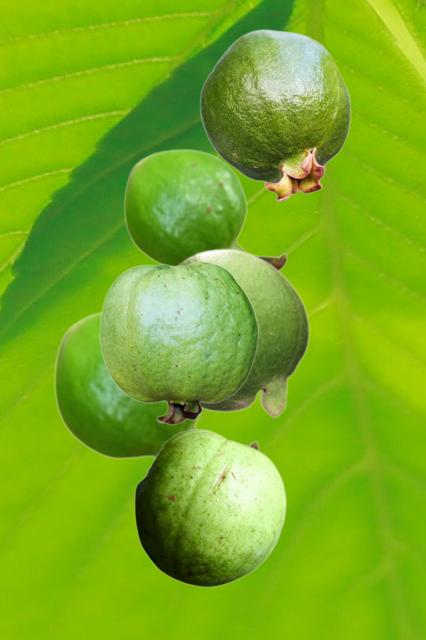guava: (53, 311, 259, 461), (199, 29, 350, 201), (99, 261, 258, 424), (134, 429, 285, 586), (178, 247, 309, 418), (123, 148, 287, 270)
